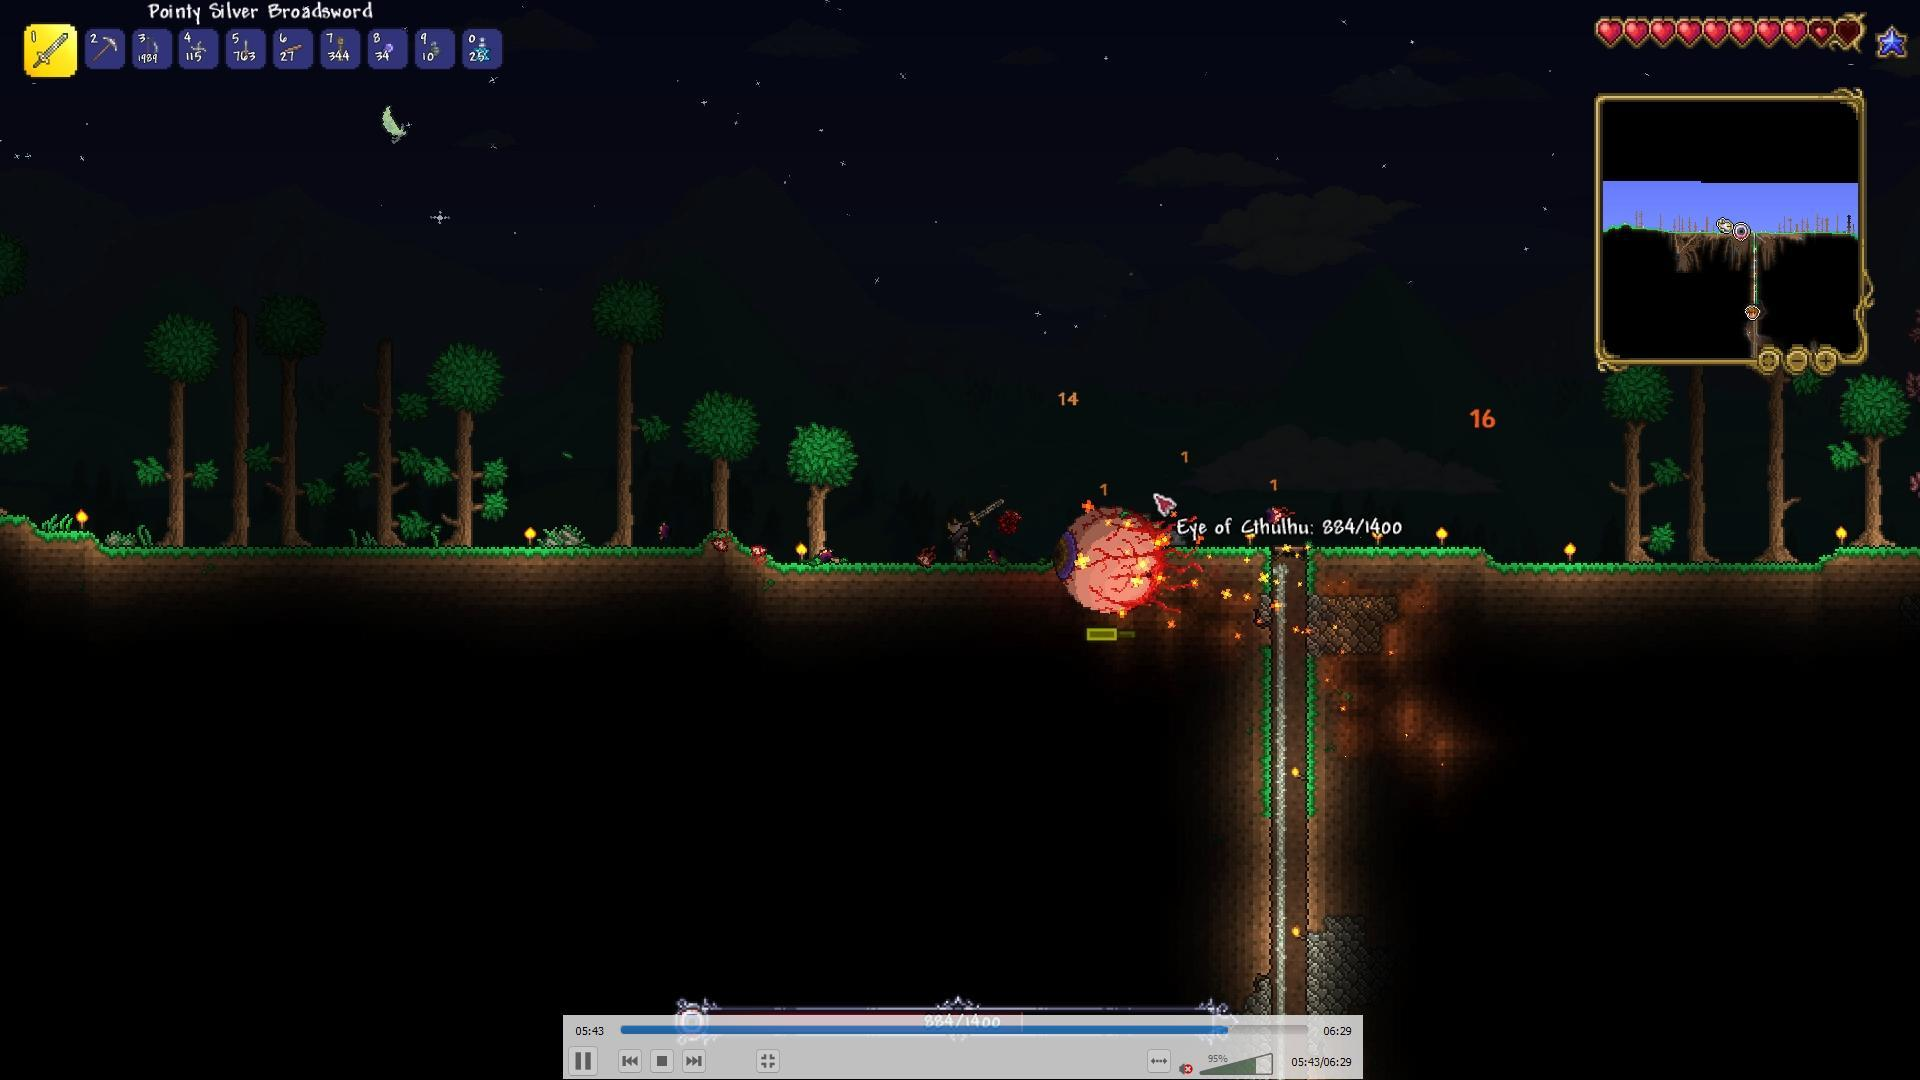eyeC: (1051, 504, 1215, 620)
